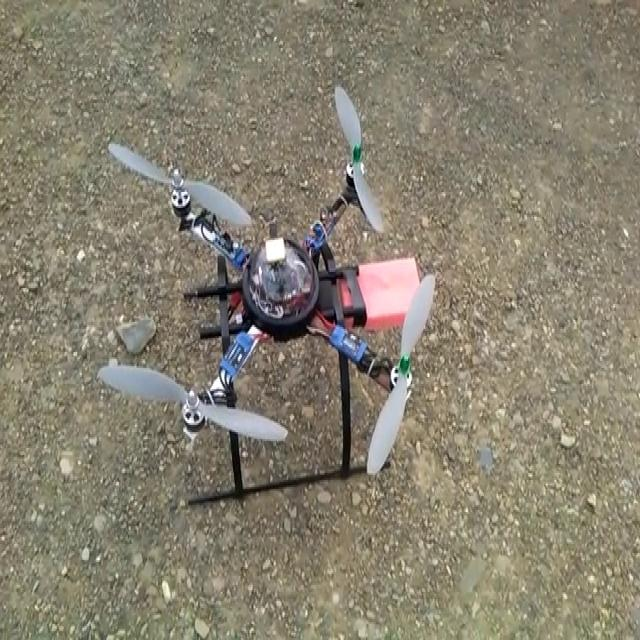drone: (98, 82, 437, 510)
